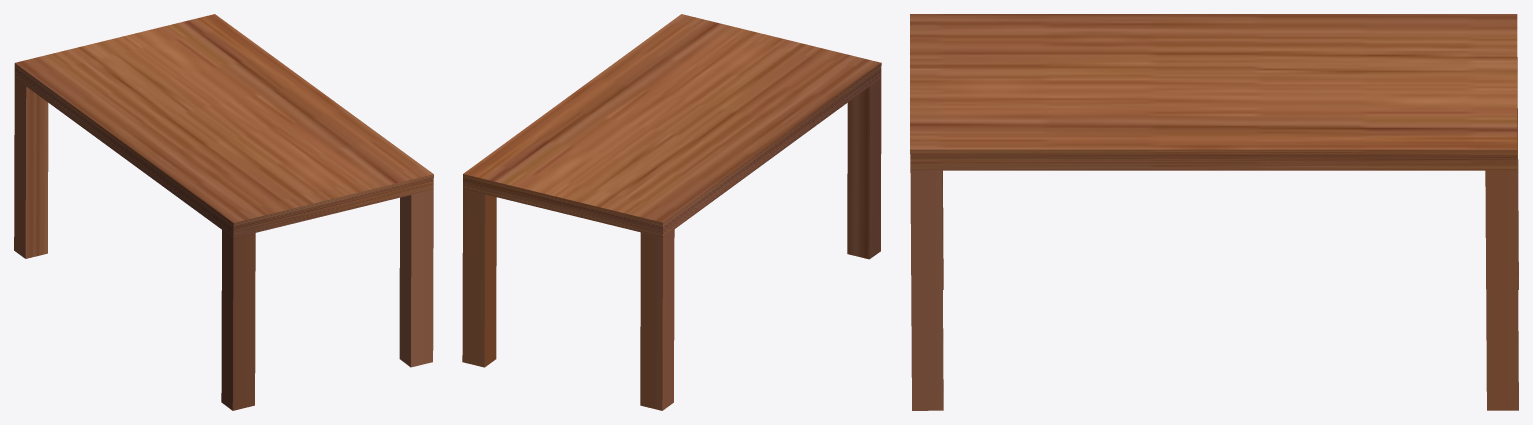
Rendered from table.obj.
The picture shows the model from 3 angles, left to right: view 1: azimuth 30°, elevation 25°; view 2: azimuth 150°, elevation 25°; view 3: azimuth 270°, elevation 25°; orthographic projection. The views are drawn at different scales.
Visible parts, largest first — view 1: Cube; view 2: Cube; view 3: Cube.
Part boxes in pixels (x1,y1,x2,y2): Cube: (14,14,433,410); Cube: (462,14,881,410); Cube: (910,14,1518,410).
Size of the model in its own units: 6.23 by 5.6 by 11.82.
